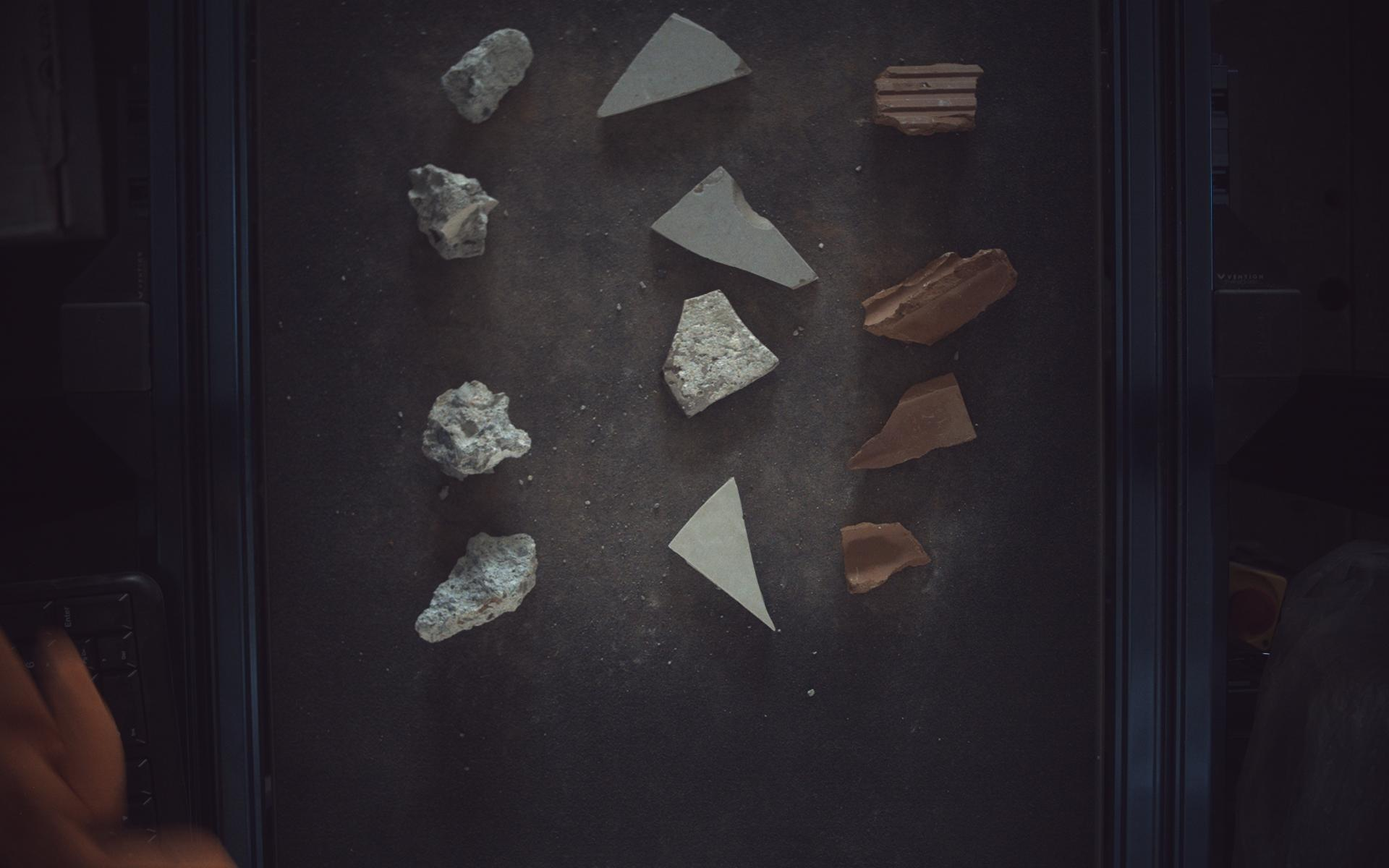brick: (865, 247, 1020, 345), (849, 373, 977, 470), (875, 61, 985, 135), (843, 523, 933, 595)
concrete: (415, 533, 538, 643), (423, 380, 532, 480), (441, 27, 534, 122), (408, 163, 498, 259)
tile: (653, 166, 819, 288), (669, 478, 777, 631), (598, 12, 752, 116), (664, 289, 781, 416)
